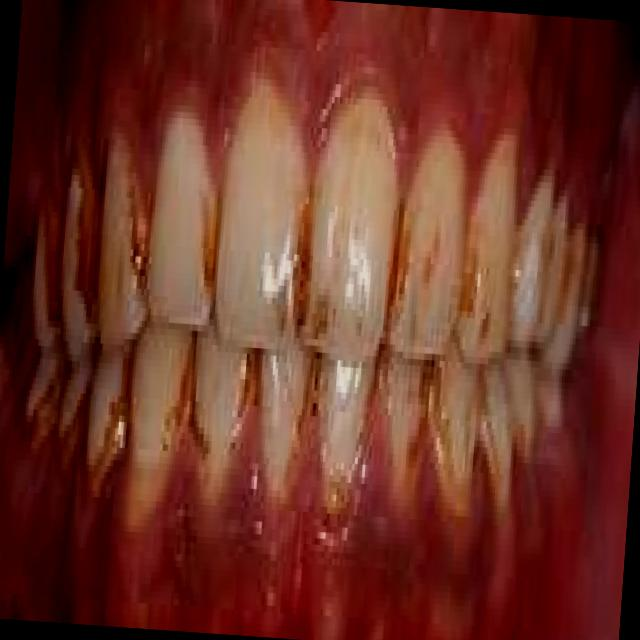calculus: (314, 339, 398, 544), (152, 334, 226, 498), (265, 174, 328, 352), (62, 152, 118, 348), (260, 335, 328, 496), (491, 216, 567, 357), (13, 360, 104, 470), (368, 176, 423, 348), (89, 348, 145, 502), (117, 152, 169, 310), (450, 178, 498, 343), (225, 330, 276, 480), (396, 352, 447, 498), (218, 82, 302, 169), (320, 78, 404, 163), (182, 179, 236, 303), (27, 188, 71, 315), (554, 222, 606, 326), (440, 387, 481, 516), (480, 388, 534, 480), (413, 208, 447, 296)
